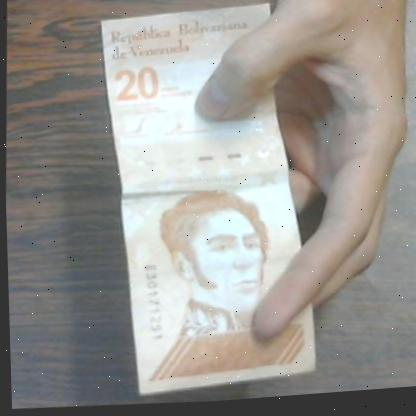twenty-front-vef: (89, 13, 327, 404)
